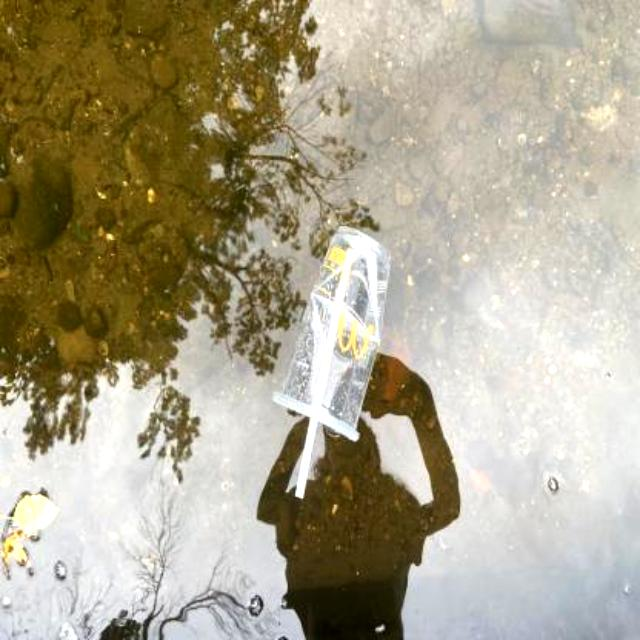Plastic: (254, 212, 400, 503)
